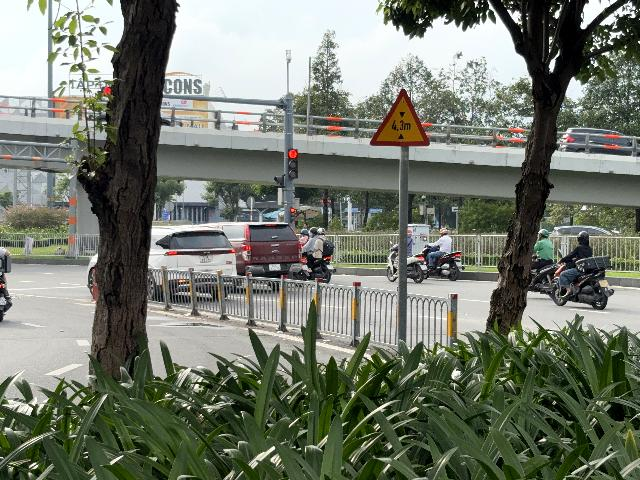chieu-cao-tinh-khong-thuc-te: (369, 89, 430, 147)
